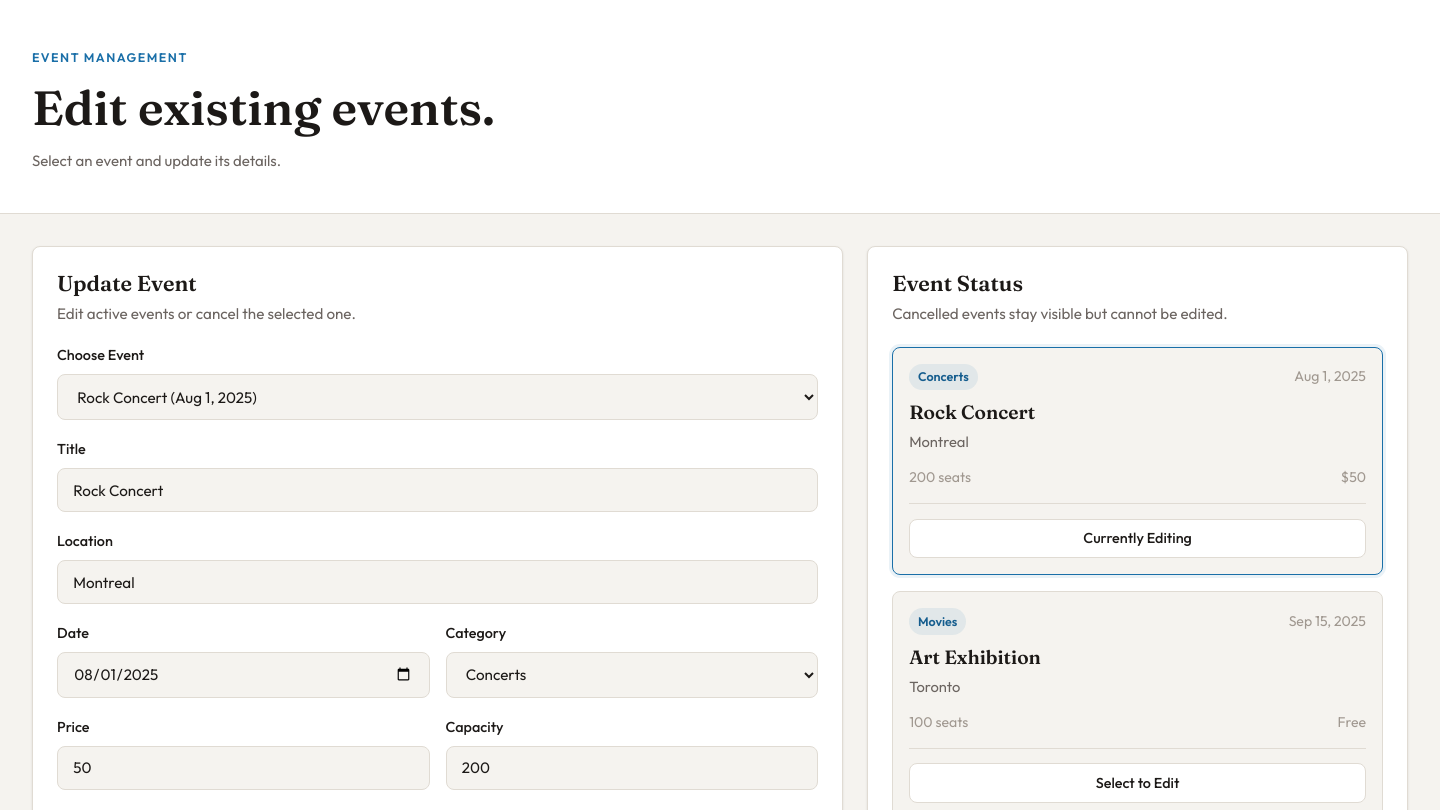
EditEventsPage — event selection › updates form when a different event is selected from the dropdown
The width and height of the screenshot is (1440, 810).
Step 1. Select "Art Exhibition (Sep 15, 2025)" in the dropdown labelled "Choose Event" → coordinates (438, 397), box [57, 374, 818, 420]
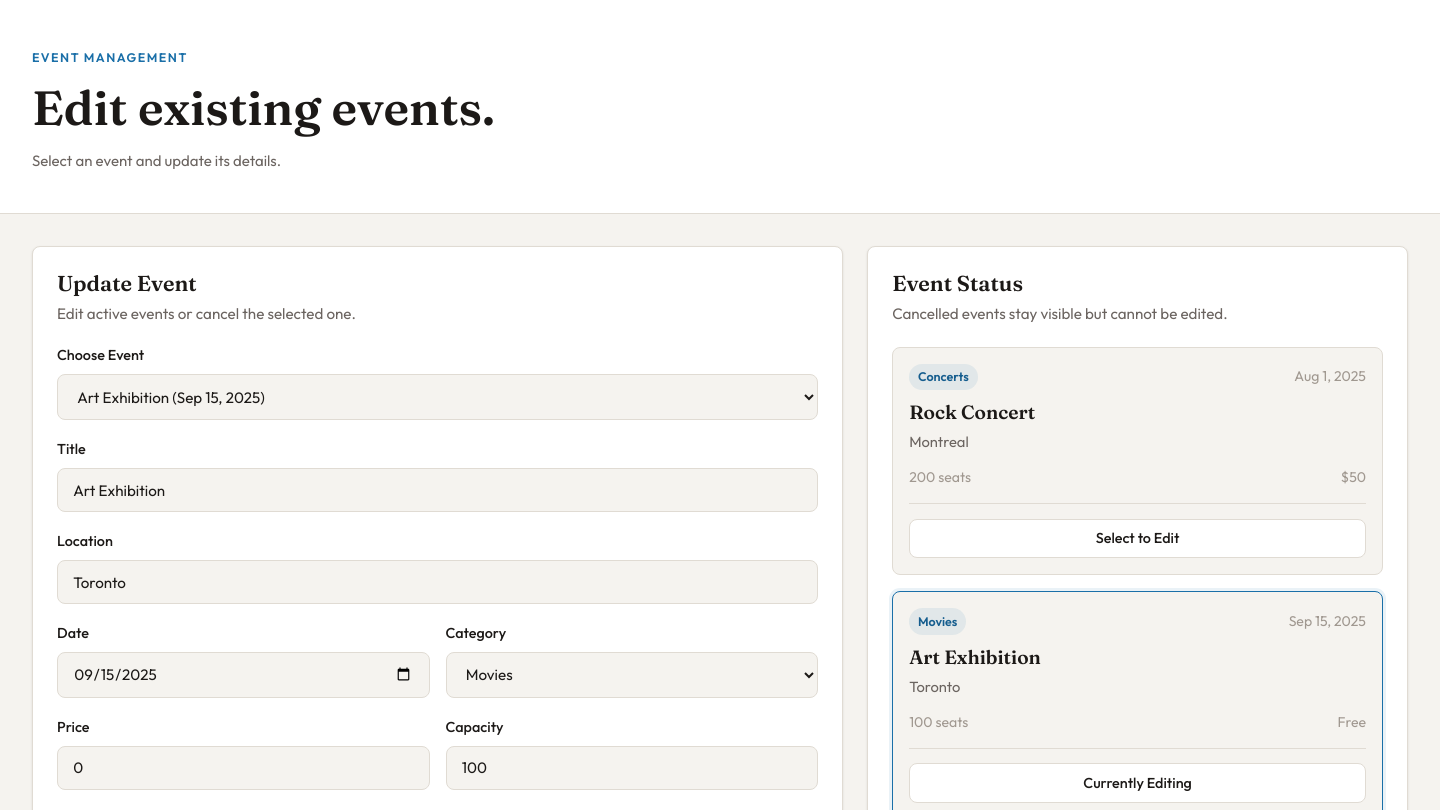
Now the field showing "Art Exhibition" is shown, box [57, 468, 818, 512]
Now the field showing "Toronto" is shown, box [57, 560, 818, 604]
